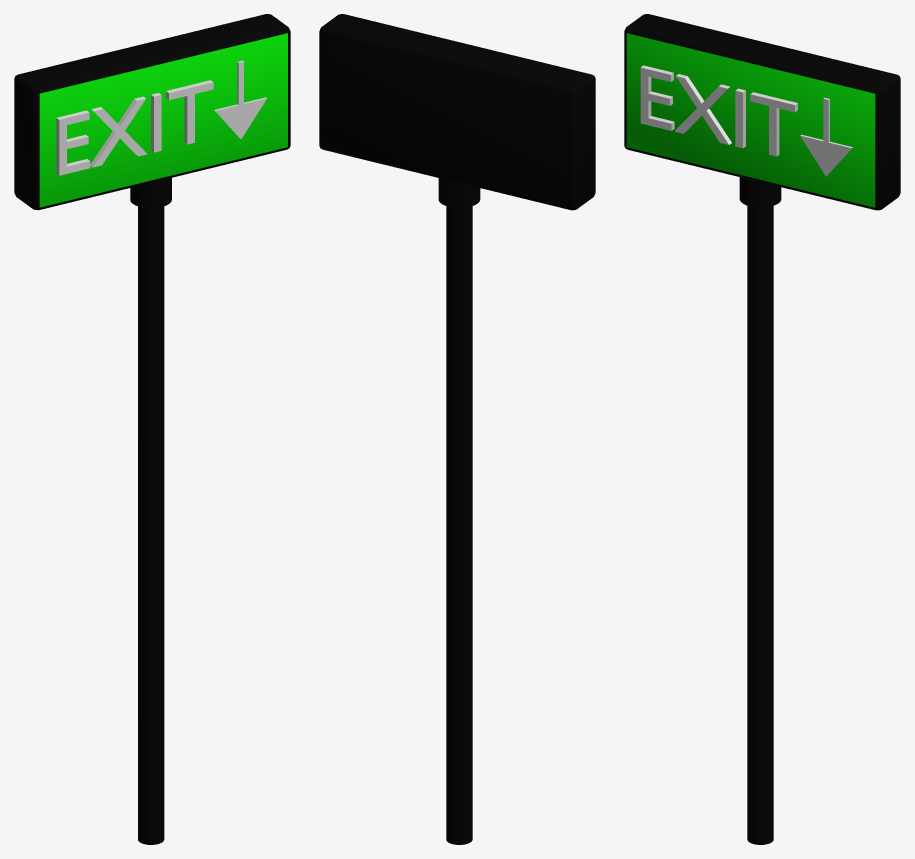
File: exit_tweaked.fbx
3 renders of one model, left to right at view 1: azimuth 30°, elevation 25°; view 2: azimuth 150°, elevation 25°; view 3: azimuth 330°, elevation 25°, orthographic.
Parts seen in each view (by area): view 1: Cube.001, Cylinder, Text, Plane; view 2: Cube.001, Cylinder; view 3: Cube.001, Cylinder, Text, Plane.
Part boxes in pixels (x1=…): Cube.001: x1=14, y1=14, x2=290, y2=210; Cylinder: x1=130, y1=178, x2=171, y2=844; Text: x1=56, y1=80, x2=213, y2=175; Plane: x1=214, y1=60, x2=266, y2=138; Cube.001: x1=319, y1=14, x2=595, y2=210; Cylinder: x1=438, y1=178, x2=480, y2=844; Cube.001: x1=624, y1=14, x2=900, y2=210; Cylinder: x1=739, y1=177, x2=781, y2=844; Text: x1=640, y1=65, x2=797, y2=156; Plane: x1=800, y1=98, x2=852, y2=176.
Bounding box in the file's own units: 486 × 1421 × 83.65.
